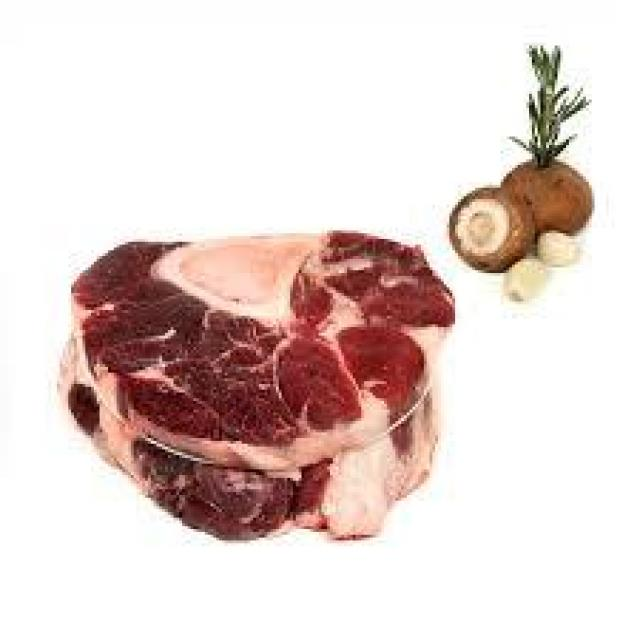Beef: (56, 226, 455, 549)
